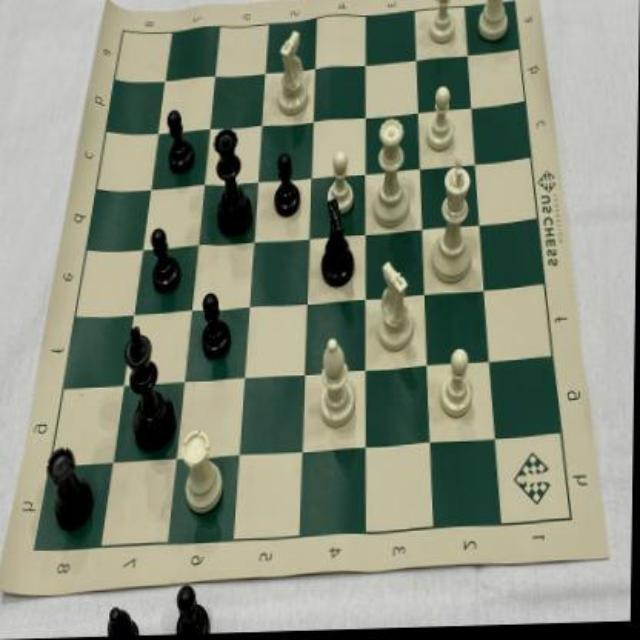black-king: (122, 324, 178, 460)
black-knight: (319, 200, 359, 290)
black-pawn: (200, 291, 236, 361), (150, 227, 184, 297), (271, 152, 305, 221), (165, 107, 197, 177)
black-queen: (211, 130, 254, 242)
black-rook: (49, 445, 99, 535)
white-bishop: (319, 338, 359, 434)
white-king: (429, 158, 478, 288)
white-knight: (374, 260, 415, 356)
white-pawn: (439, 348, 477, 424), (426, 86, 458, 156), (326, 151, 358, 218), (426, 0, 459, 52)
white-queen: (372, 117, 416, 233)
white-rook: (181, 423, 227, 521), (475, 0, 513, 49)
